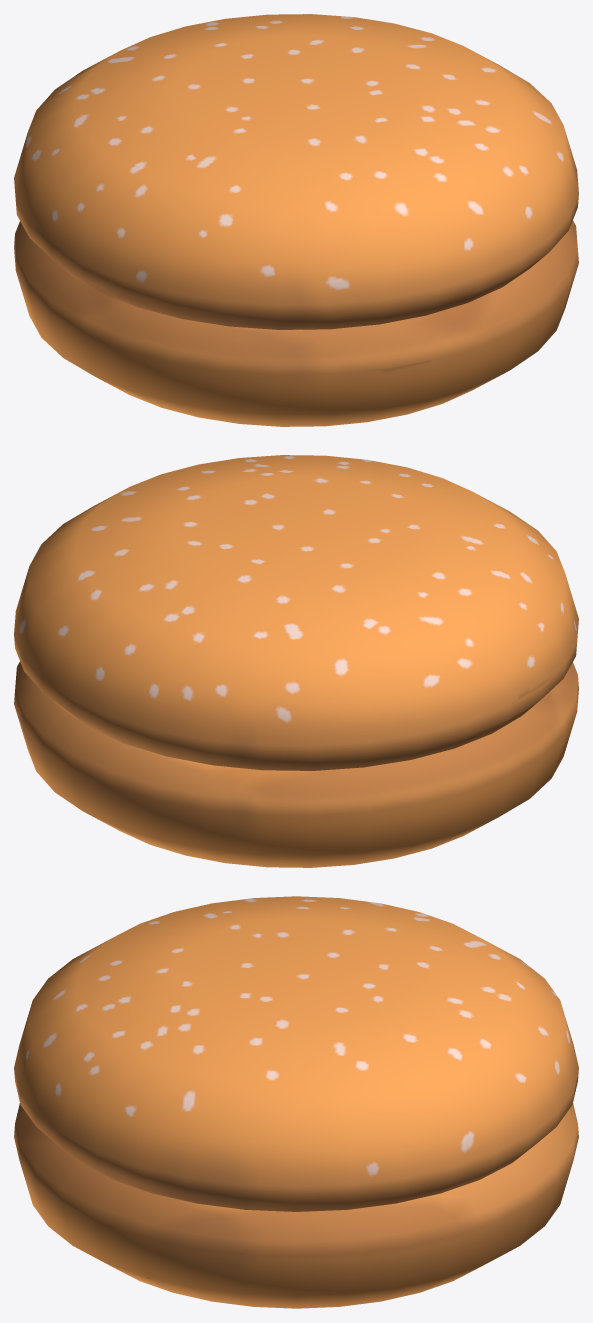
The model's file is BurgerBun_GEO.fbx.
3 renders of one model, top to bottom at view 1: azimuth 30°, elevation 25°; view 2: azimuth 150°, elevation 25°; view 3: azimuth 270°, elevation 25°, orthographic.
Visible parts, largest first — view 1: BurgerBun_GEO; view 2: BurgerBun_GEO; view 3: BurgerBun_GEO.
Boxes of the visible parts, box(x1,y1,x2,y2) form: BurgerBun_GEO: box(14, 14, 578, 426); BurgerBun_GEO: box(14, 455, 578, 867); BurgerBun_GEO: box(14, 896, 578, 1308).
Bounding box in the file's own units: 160 × 83.32 × 160.
